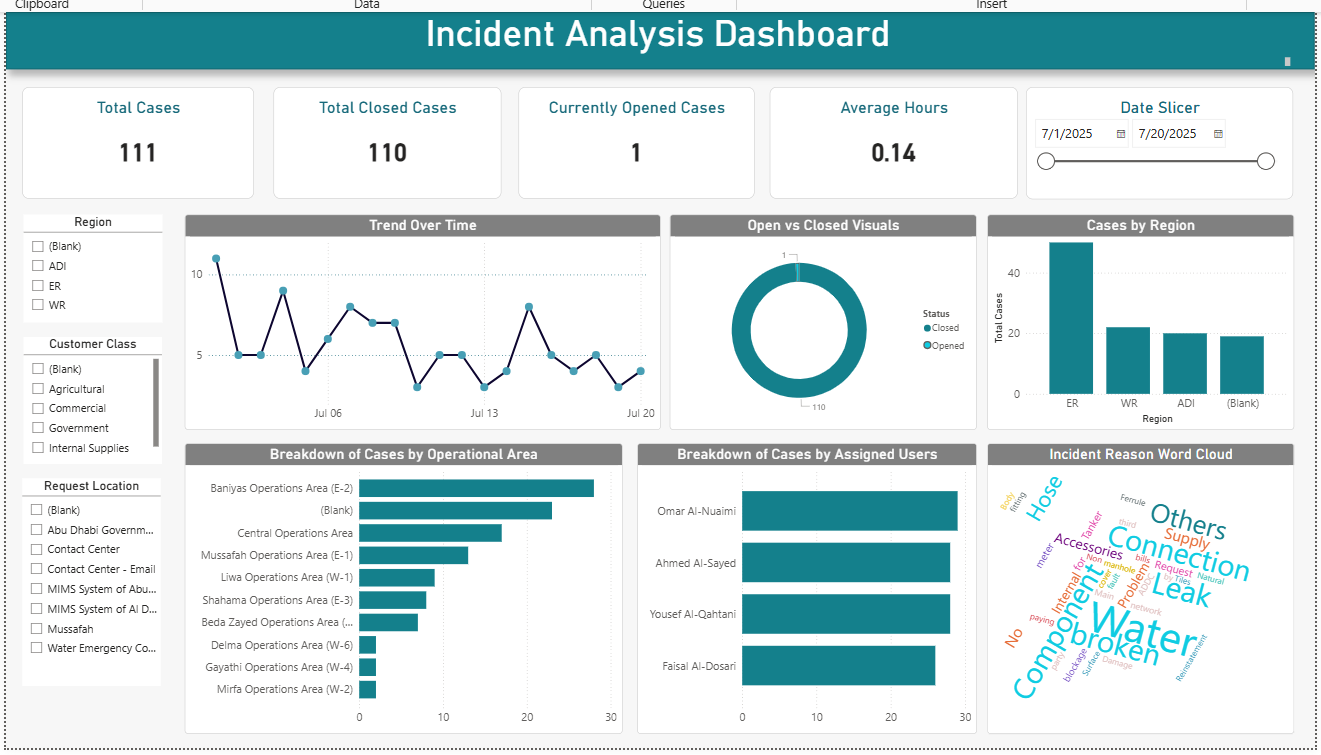

The page's visual inventory and layout, read from the dashboard file:
{"tool":"powerbi","page":{"name":"Page 1","canvas":[1920,1080],"ordinal":0},"visuals":[{"type":"shape","box":[0,0,1920,84],"z":0},{"type":"card","title":"Total Cases","fields":{"Values":["CountNonNull(Data.CASE_ID)"]},"box":[24,110,340,164],"z":1000},{"type":"card","title":"Total Closed Cases","fields":{"Values":["Data.Count of CASE_STATUS for Closed"]},"box":[392,110,334,164],"z":2000},{"type":"card","title":"Currently Opened Cases","fields":{"Values":["Data.Count of CASE_STATUS for Opened"]},"box":[752,110,346,164],"z":3000},{"type":"card","title":"Average Hours","fields":{"Values":["Data.Average Hours"]},"box":[1120,110,364,164],"z":4000},{"type":"slicer","title":"Region","fields":{"Values":["Data.REGION"]},"box":[26,298,204,158],"z":5000},{"type":"slicer","title":"Customer Class","fields":{"Values":["Data.CUSTOMERCLASS"]},"box":[26,476.1,203.4,186.1],"z":6000},{"type":"slicer","title":"Request Location","fields":{"Values":["Data.REQUEST_LOCATION"]},"box":[23.8,683.9,203.4,305.1],"z":7000},{"type":"lineChart","title":"Trend Over Time ","fields":{"Y":["CountNonNull(Data.CASE_ID)"],"Category":["Data.CREATEDATE.Variation.Date Hierarchy.Year","Data.CREATEDATE.Variation.Date Hierarchy.Quarter","Data.CREATEDATE.Variation.Date Hierarchy.Month","Data.CREATEDATE.Variation.Date Hierarchy.Day"]},"box":[262,298,698,316],"z":8000},{"type":"donutChart","title":"Open vs Closed Visuals","fields":{"Category":["Data.CASE_STATUS"],"Y":["CountNonNull(Data.CASE_ID)"]},"box":[974,298,450,316],"z":9000},{"type":"columnChart","title":"Cases by Region","fields":{"Y":["CountNonNull(Data.CASE_ID)"],"Category":["Data.REGION"]},"box":[1440,298,450,316],"z":10000},{"type":"clusteredBarChart","title":"Breakdown of Cases by Operational Area","fields":{"Category":["Data.OPERATIONALAREA"],"Y":["CountNonNull(Data.CASE_ID)"]},"box":[262,632,642,426],"z":11000},{"type":"clusteredBarChart","title":"Breakdown of Cases by Assigned Users","fields":{"Y":["CountNonNull(Data.CASE_ID)"],"Category":["Data.ASSIGNEDUSER"]},"box":[926,632,498,426],"z":12000},{"type":"WordCloud1447959067750","title":"Incident Reason Word Cloud","fields":{"Values":["CountNonNull(Data.CASE_ID)"],"Category":["Data.INCIDENTREASON"]},"box":[1440,632,450,426],"z":13000},{"type":"slicer","title":"Date Slicer","fields":{"Values":["Data.CREATEDATE"]},"box":[1497.6,110.4,391.7,164.5],"z":14000},{"type":"textbox","title":"Incident Analysis Dashboard","box":[23.8,0,1865.5,84.4],"z":15000}]}

Visuals, with their boxes on the page's 1920x1080 design canvas (x1, y1, x2, y2). These are canvas units, not pixel positions in the 1321x755 screenshot, which may show the page scaled, cropped or inside an application window:
shape: (0, 0, 1920, 84)
"Total Cases" card: (24, 110, 364, 274)
"Total Closed Cases" card: (392, 110, 726, 274)
"Currently Opened Cases" card: (752, 110, 1098, 274)
"Average Hours" card: (1120, 110, 1484, 274)
"Region" slicer: (26, 298, 230, 456)
"Customer Class" slicer: (26, 476, 229, 662)
"Request Location" slicer: (24, 684, 227, 989)
"Trend Over Time " lineChart: (262, 298, 960, 614)
"Open vs Closed Visuals" donutChart: (974, 298, 1424, 614)
"Cases by Region" columnChart: (1440, 298, 1890, 614)
"Breakdown of Cases by Operational Area" clusteredBarChart: (262, 632, 904, 1058)
"Breakdown of Cases by Assigned Users" clusteredBarChart: (926, 632, 1424, 1058)
"Incident Reason Word Cloud" WordCloud1447959067750: (1440, 632, 1890, 1058)
"Date Slicer" slicer: (1498, 110, 1889, 275)
"Incident Analysis Dashboard" textbox: (24, 0, 1889, 84)
